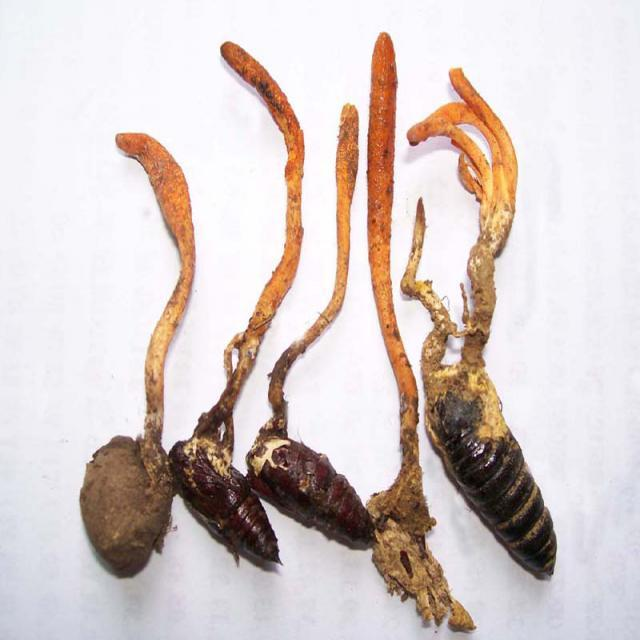Cordyceps militaris: (337, 34, 481, 632), (402, 70, 558, 578), (173, 42, 303, 568), (247, 104, 379, 550), (81, 134, 197, 576)
